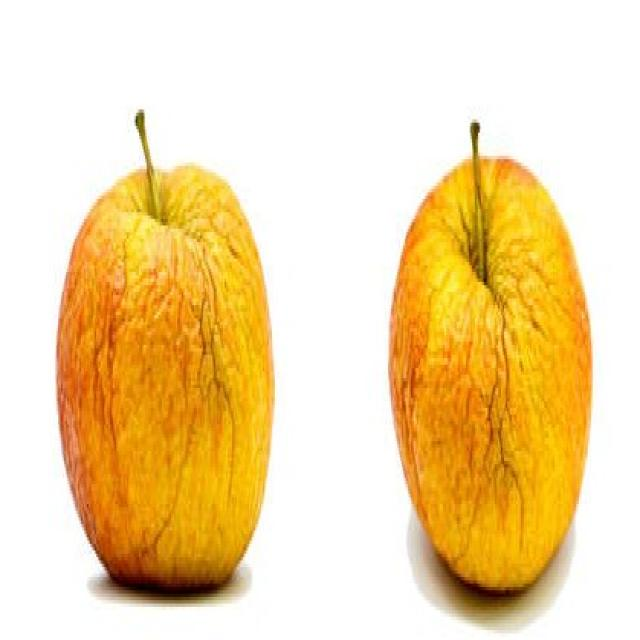overripe: (52, 164, 278, 597), (384, 144, 594, 600)
